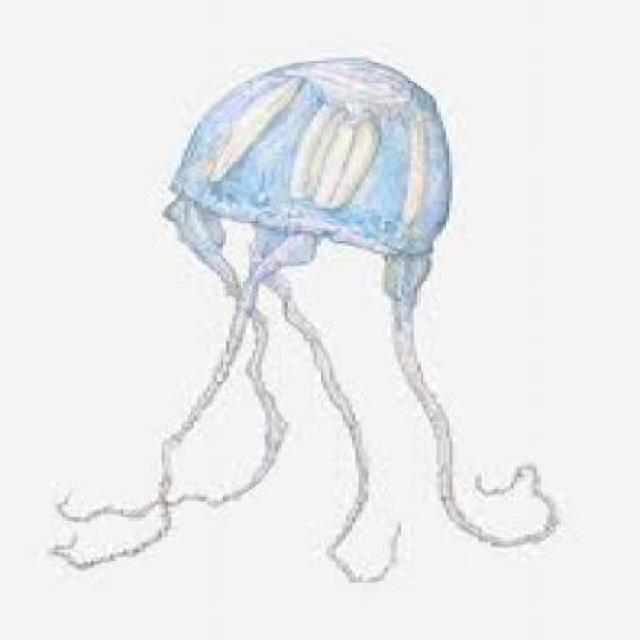Jellyfish: (41, 46, 564, 582)
